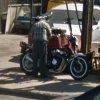Motorcycle: (14, 32, 96, 88)
